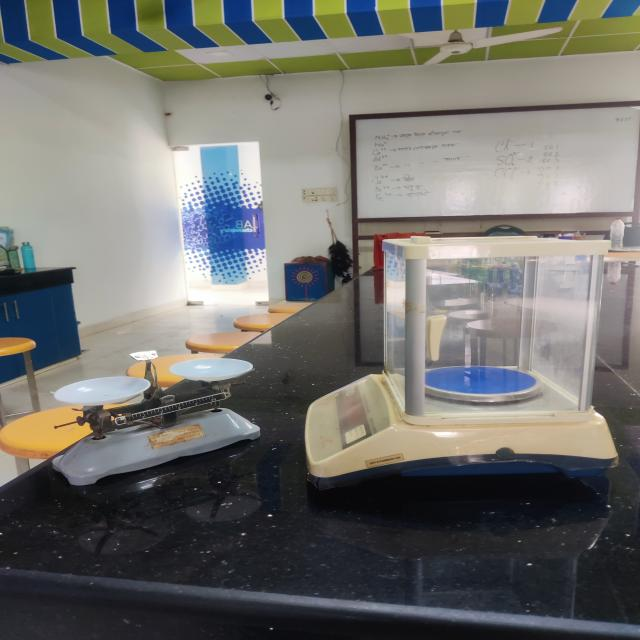Mechanical_Balance_Scale: (27, 351, 273, 496)
Precision_Weight_Scale: (293, 215, 622, 505)
